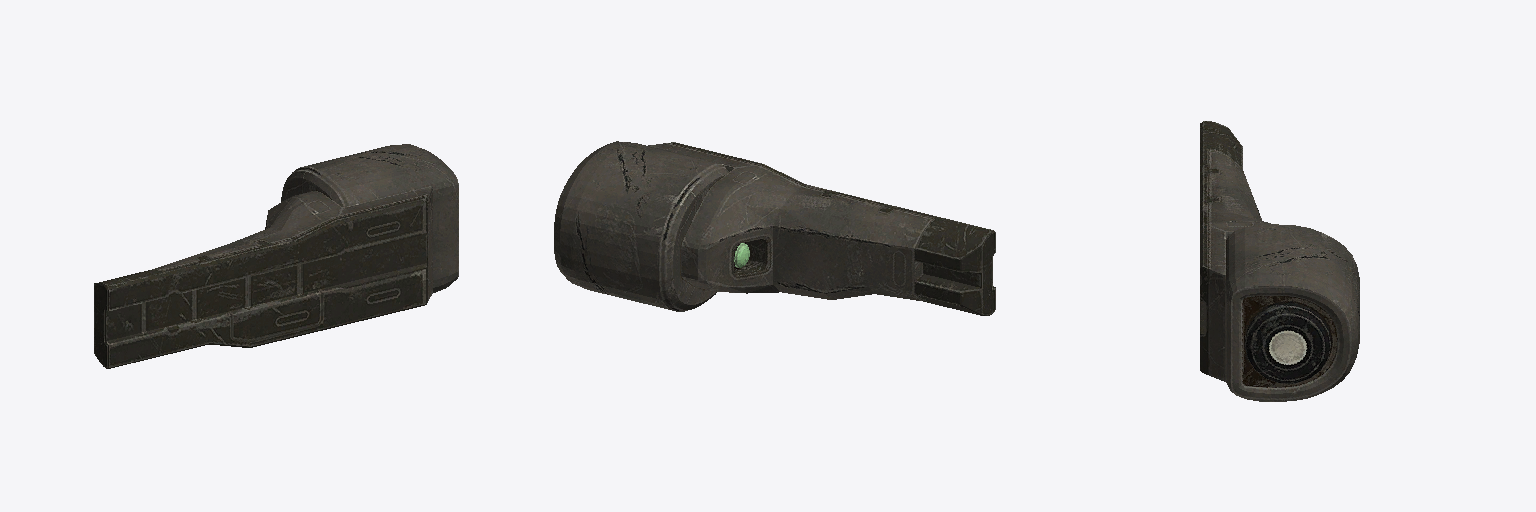
3 views of the same model, side by side, from view 1: azimuth 30°, elevation 25°; view 2: azimuth 150°, elevation 25°; view 3: azimuth 270°, elevation 25° (orthographic).
Visible parts, largest first — view 1: laser_guide; view 2: laser_guide; view 3: laser_guide.
Boxes of the visible parts, box(x1,y1,x2,y2) form: laser_guide: box(94, 144, 458, 368); laser_guide: box(554, 141, 995, 315); laser_guide: box(1200, 121, 1359, 401).
Bounding box in the file's own units: 0.0648 × 0.0215 × 0.0239.
1 materials, 1 textured.